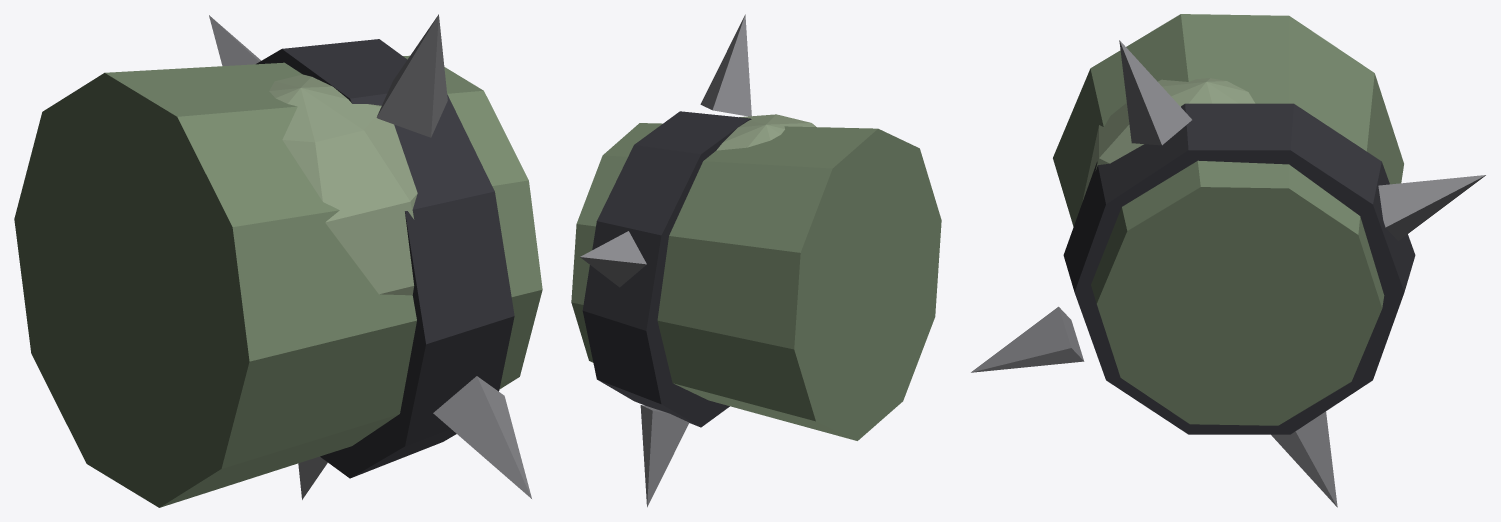
File: stonebrow_warlord_arm_l.glb
3 renders of one model, left to right at view 1: azimuth 30°, elevation 25°; view 2: azimuth 150°, elevation 25°; view 3: azimuth 270°, elevation 25°, orthographic. The views are drawn at different scales.
Visible parts, largest first — view 1: stonebrow_warlord_arm_l; view 2: stonebrow_warlord_arm_l; view 3: stonebrow_warlord_arm_l.
Part boxes in pixels (bbox=[...]): stonebrow_warlord_arm_l: bbox=[14, 14, 542, 507]; stonebrow_warlord_arm_l: bbox=[571, 14, 941, 507]; stonebrow_warlord_arm_l: bbox=[971, 14, 1485, 507].
Size of the model in its own units: 0.2935 by 0.4697 by 0.4697.
